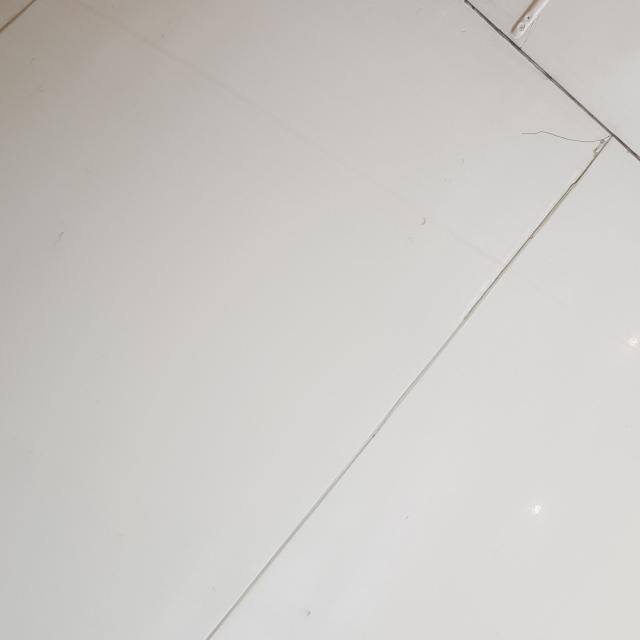crack: (503, 121, 615, 148)
